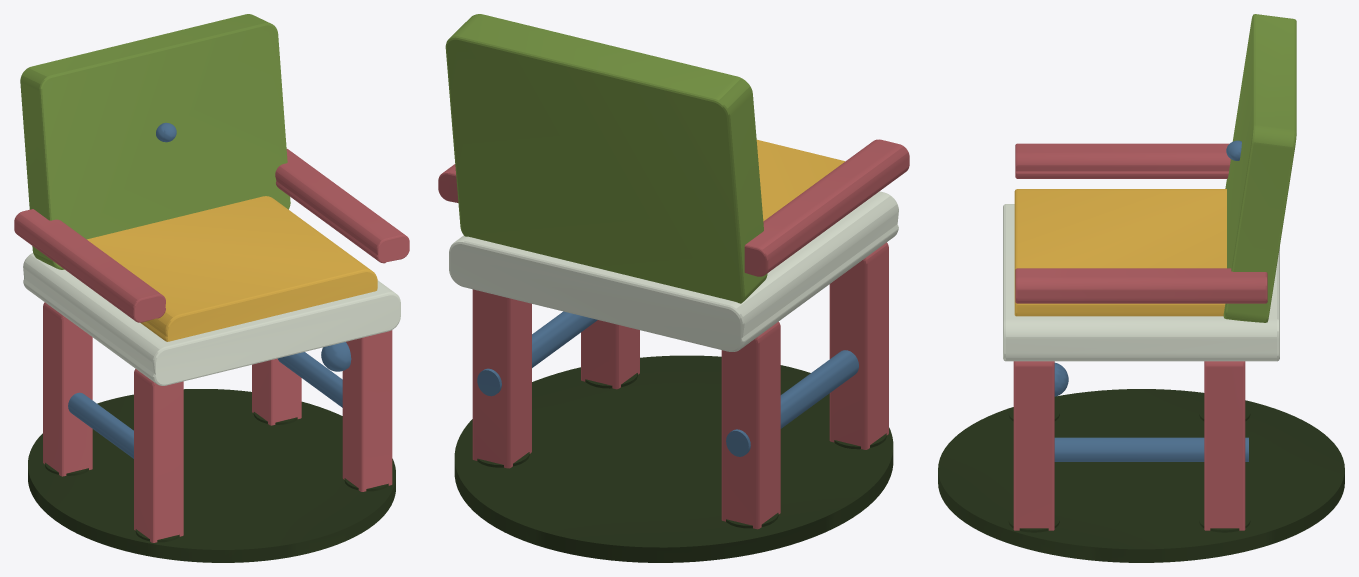
Rendered from 0954_农业科技图鉴_太空育种南瓜.glb.
The picture shows the model from 3 angles, left to right: view 1: azimuth 30°, elevation 25°; view 2: azimuth 150°, elevation 25°; view 3: azimuth 270°, elevation 25°; orthographic projection. The views are drawn at different scales.
Parts seen in each view (by area): view 1: card_0954; view 2: card_0954; view 3: card_0954.
Part boxes in pixels (x1,y1,x2,y2): card_0954: (14,14,409,562); card_0954: (438,14,909,562); card_0954: (938,14,1344,562).
Bounding box in the file's own units: 0.8275 × 1 × 0.8871.
